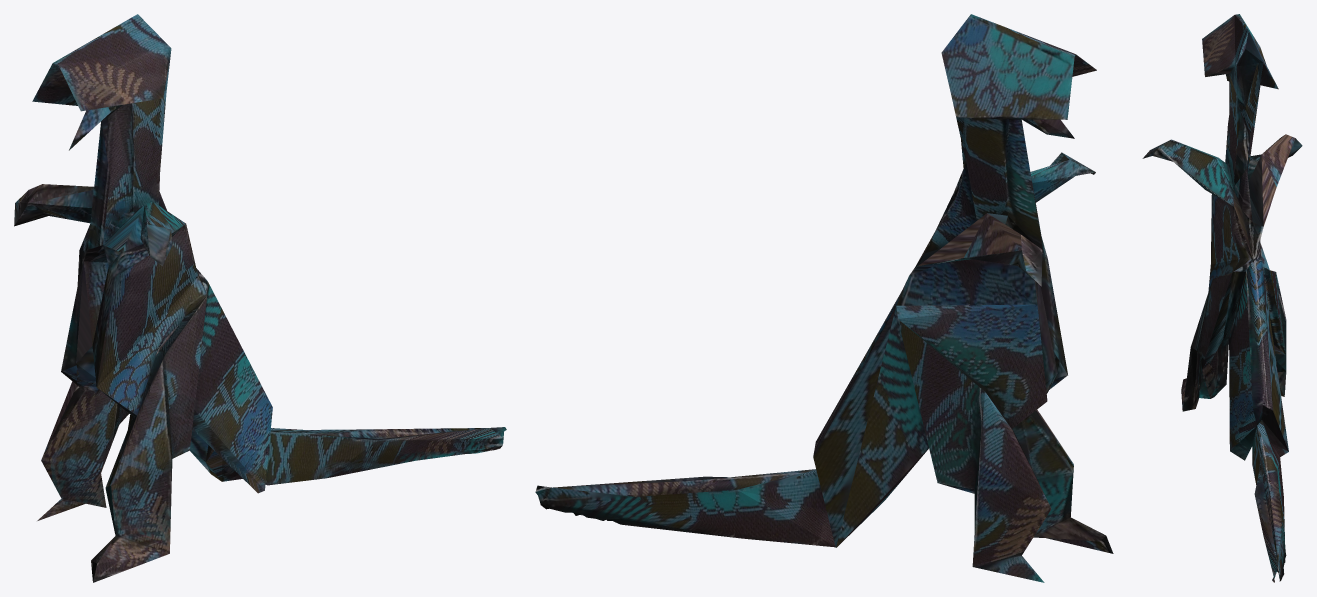
File: dino.obj
3 views of the same model, side by side, from view 1: azimuth 30°, elevation 25°; view 2: azimuth 150°, elevation 25°; view 3: azimuth 270°, elevation 25° (orthographic). The views are drawn at different scales.
Parts seen in each view (by area): view 1: dino; view 2: dino; view 3: dino.
Boxes of the visible parts, x1,y1,x2,y2 form: dino: (14, 14, 506, 582); dino: (535, 14, 1113, 582); dino: (1142, 14, 1302, 582).
Bounding box in the file's own units: 1.73 × 1.84 × 0.6493.
